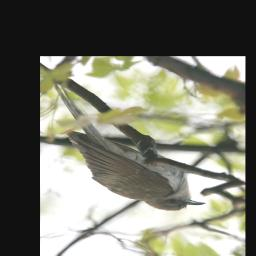Cuckoo: (52, 80, 205, 211)
